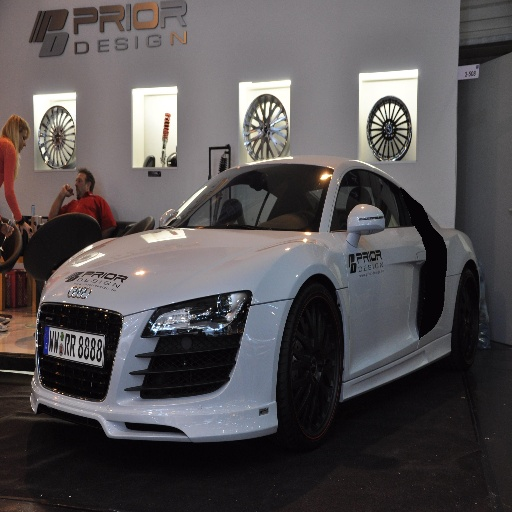hand: (20, 219, 34, 240), (0, 220, 14, 238), (61, 182, 73, 196)
